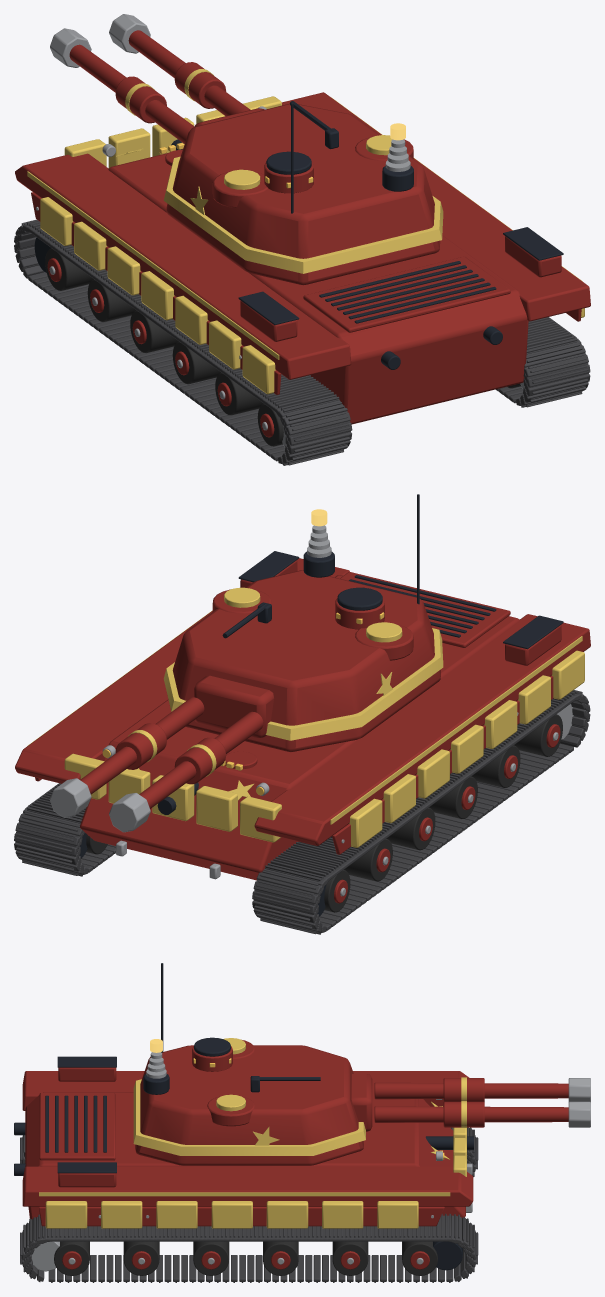
Rendered from baeren_grizzly.glb.
3 views of the same model, one above another, from view 1: azimuth 30°, elevation 25°; view 2: azimuth 150°, elevation 25°; view 3: azimuth 270°, elevation 25° (orthographic). The views are drawn at different scales.
Visible parts, largest first — view 1: turret_body, hull_core, fender_-1, fender_1, Tracks3, Tracks1, Tracks0, engine_deck, turret_band, Tracks2, barrel, barrel_2 (+30 smaller); view 2: turret_body, fender_-1, hull_core, Tracks0, fender_1, Tracks1, turret_band, mantlet, engine_deck, barrel_2, barrel, Tracks2 (+34 smaller); view 3: turret_body, fender_1, Tracks0, hull_core, Tracks1, engine_deck, fender_-1, turret_band, barrel, barrel_2, skirt_1, fender_trim_1 (+32 smaller).
Part boxes in pixels (<box>): turret_body: <box>166,103,440,285</box>; hull_core: <box>108,149,528,424</box>; fender_-1: <box>15,153,351,379</box>; fender_1: <box>282,92,590,321</box>; Tracks3: <box>18,225,590,465</box>; Tracks1: <box>15,221,585,463</box>; Tracks0: <box>14,219,574,461</box>; engine_deck: <box>303,256,510,332</box>; turret_band: <box>163,156,443,273</box>; Tracks2: <box>16,224,588,465</box>; barrel: <box>69,44,194,143</box>; barrel_2: <box>128,30,250,116</box>; turret_body: <box>166,570,440,752</box>; fender_-1: <box>254,614,590,845</box>; hull_core: <box>80,575,520,880</box>; Tracks0: <box>14,694,586,934</box>; fender_1: <box>15,558,349,783</box>; Tracks1: <box>15,693,587,933</box>; turret_band: <box>163,628,443,740</box>; mantlet: <box>194,675,274,737</box>; engine_deck: <box>340,572,510,647</box>; barrel_2: <box>80,697,204,794</box>; barrel: <box>139,711,263,808</box>; Tracks2: <box>18,691,588,932</box>; turret_body: <box>135,1045,363,1165</box>; fender_1: <box>22,1166,473,1206</box>; Tracks0: <box>28,1127,478,1282</box>; hull_core: <box>25,1092,465,1219</box>; Tracks1: <box>26,1127,475,1282</box>; engine_deck: <box>39,1093,115,1160</box>; fender_-1: <box>22,1071,469,1110</box>; turret_band: <box>133,1079,365,1155</box>; barrel: <box>374,1082,568,1099</box>; barrel_2: <box>374,1106,568,1122</box>; skirt_1: <box>39,1206,444,1226</box>; fender_trim_1: <box>39,1192,450,1196</box>.
Bounding box in the file's own units: 2.18 × 1.88 × 4.18.
